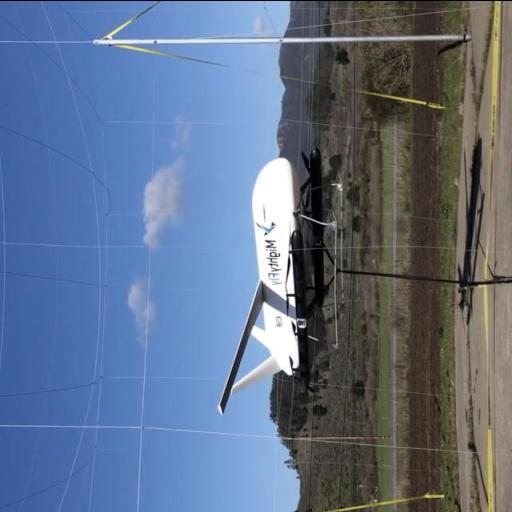uav: (212, 135, 346, 413)
